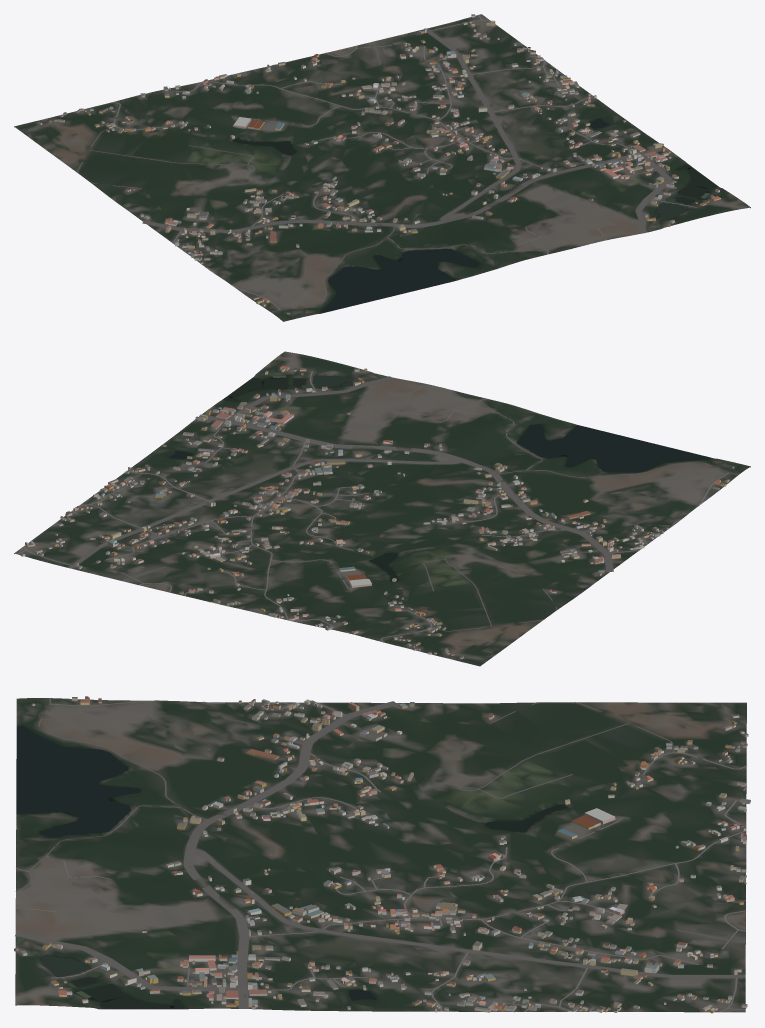
3 renders of one model, top to bottom at view 1: azimuth 30°, elevation 25°; view 2: azimuth 150°, elevation 25°; view 3: azimuth 270°, elevation 25°, orthographic. The views are drawn at different scales.
Parts seen in each view (by area): view 1: ground, buildings, roads, water; view 2: ground, buildings, roads, water; view 3: ground, buildings, roads, water.
Boxes of the visible parts, box(x1,y1,x2,y2) form: ground: box(14, 14, 750, 321); buildings: box(37, 14, 720, 314); roads: box(77, 15, 696, 312); water: box(232, 118, 717, 312); ground: box(14, 351, 750, 666); buildings: box(20, 366, 734, 659); roads: box(17, 371, 738, 642); water: box(169, 373, 710, 582); ground: box(15, 698, 746, 1012); buildings: box(14, 696, 750, 1013); roads: box(15, 698, 746, 1012); water: box(16, 725, 567, 1008).
Size of the model in its own units: 1412 by 30.6 by 1415.
